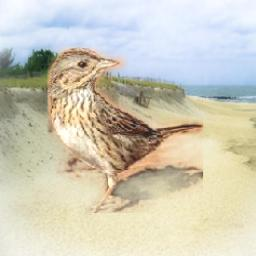Sparrow: (48, 47, 203, 213)
